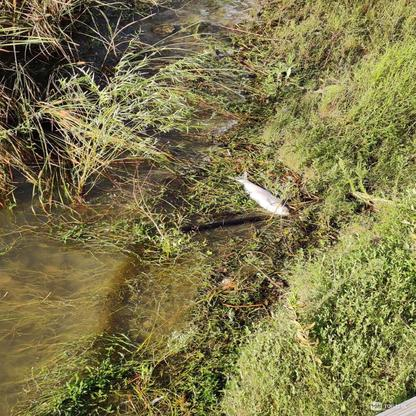deceased fish: (227, 168, 293, 218)
